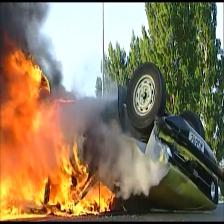fire: (0, 47, 121, 218)
smoke: (83, 107, 196, 216), (3, 2, 67, 56)
